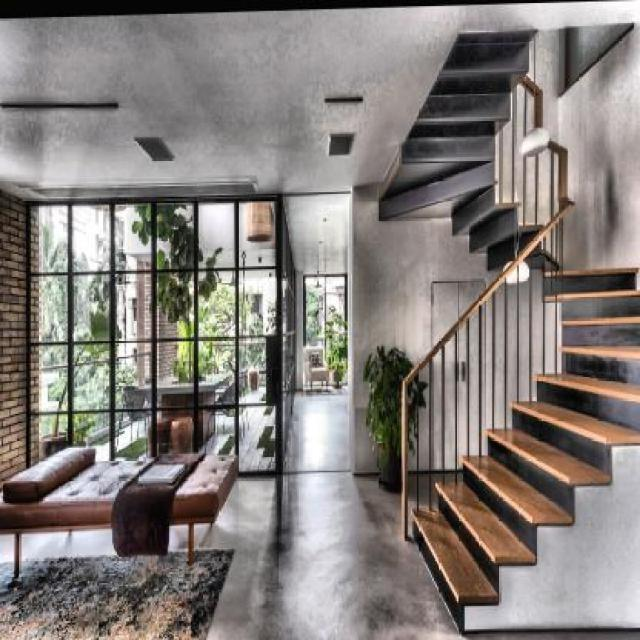stair: (398, 263, 640, 639)
